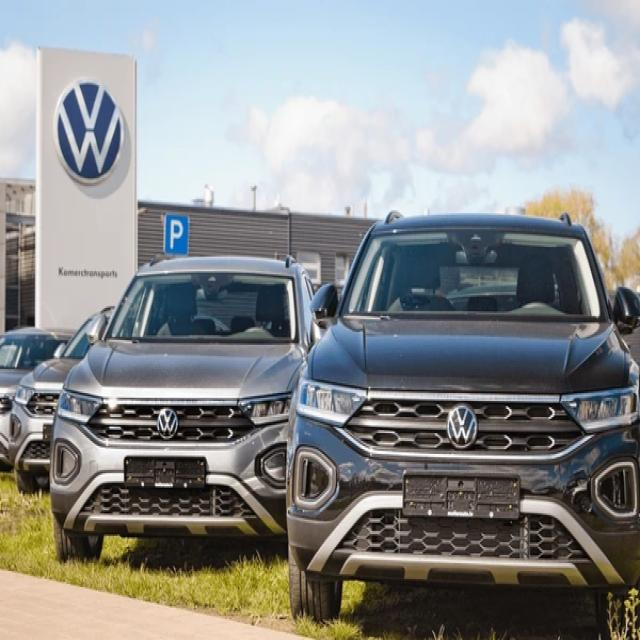wolksvogen: (51, 74, 129, 183), (446, 404, 480, 446), (158, 408, 181, 442)
